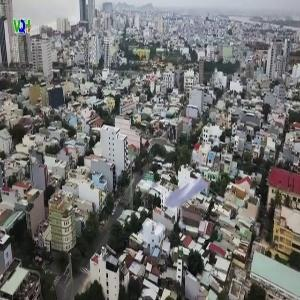drone: (127, 132, 244, 249)
